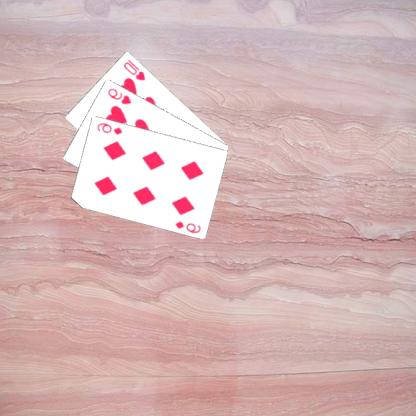10H: (122, 56, 148, 82)
6D: (96, 120, 126, 136), (174, 218, 204, 234)
9H: (107, 85, 135, 106)
